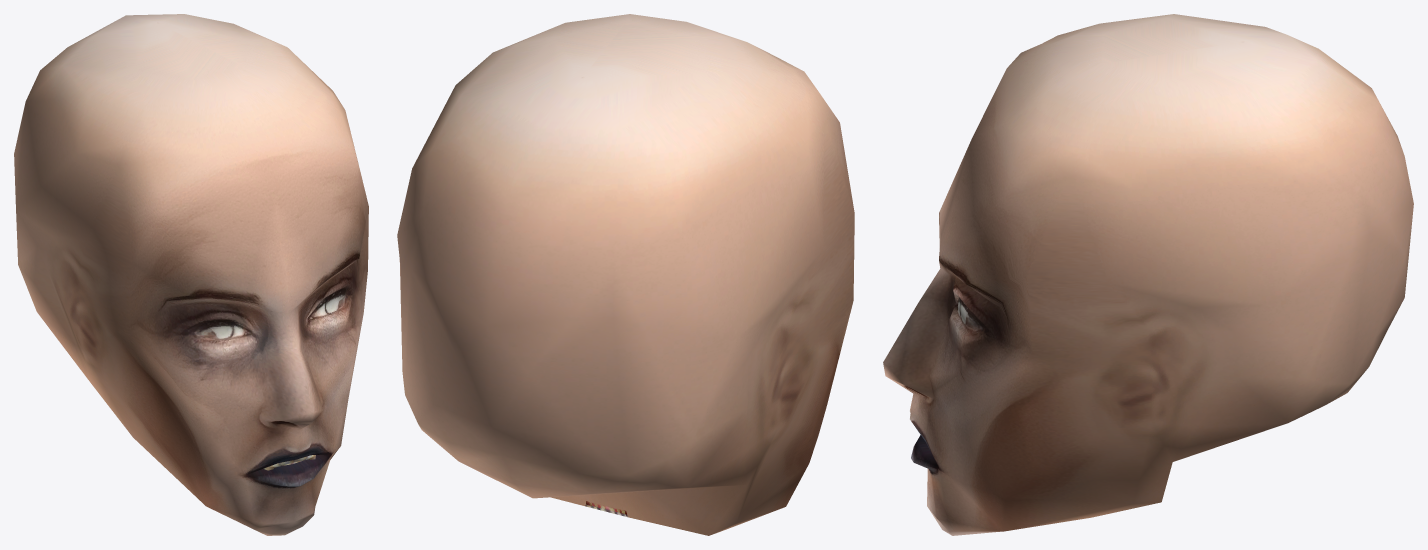
File: b_v_breton_f_head_01.glb
3 renders of one model, left to right at view 1: azimuth 30°, elevation 25°; view 2: azimuth 150°, elevation 25°; view 3: azimuth 270°, elevation 25°, orthographic. The views are drawn at different scales.
Parts seen in each view (by area): view 1: Tri B_V_Breton_F_Head_01; view 2: Tri B_V_Breton_F_Head_01; view 3: Tri B_V_Breton_F_Head_01.
Part boxes in pixels (x1,y1,x2,y2): Tri B_V_Breton_F_Head_01: (14,14,368,535); Tri B_V_Breton_F_Head_01: (397,14,854,535); Tri B_V_Breton_F_Head_01: (883,14,1413,535).
Bounding box in the file's own units: 0.1001 × 0.1548 × 0.1519.
1 material, 1 textured.
